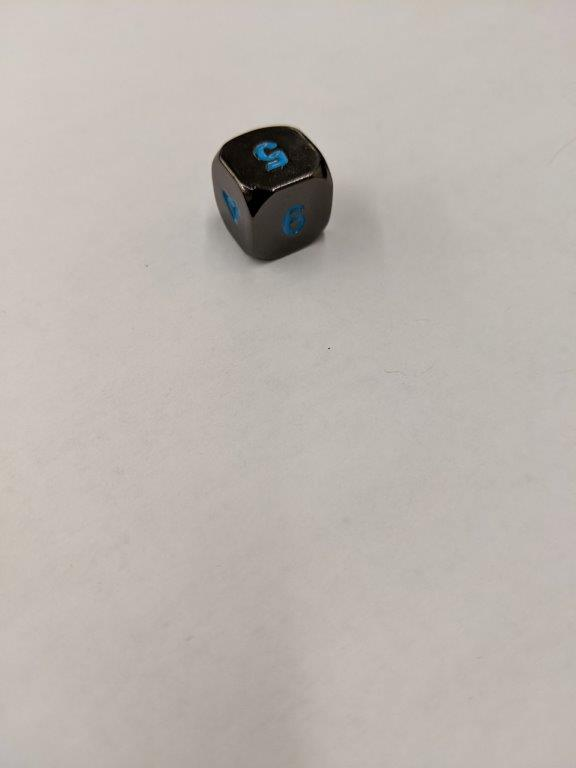d6-5: (208, 124, 333, 264)
